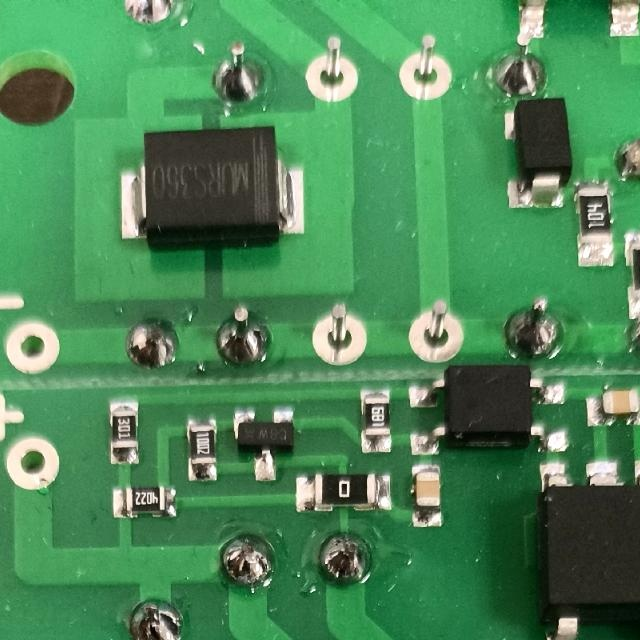chip-capacitor: (409, 461, 447, 528), (584, 388, 640, 427)
chip-resistor: (290, 471, 394, 514), (572, 176, 619, 268), (185, 411, 221, 486), (356, 386, 395, 455), (110, 483, 180, 521), (107, 397, 139, 466)
diode: (118, 123, 311, 247), (500, 96, 576, 211)
ic: (534, 459, 640, 640), (409, 361, 572, 457)
transistor: (229, 405, 300, 485)
